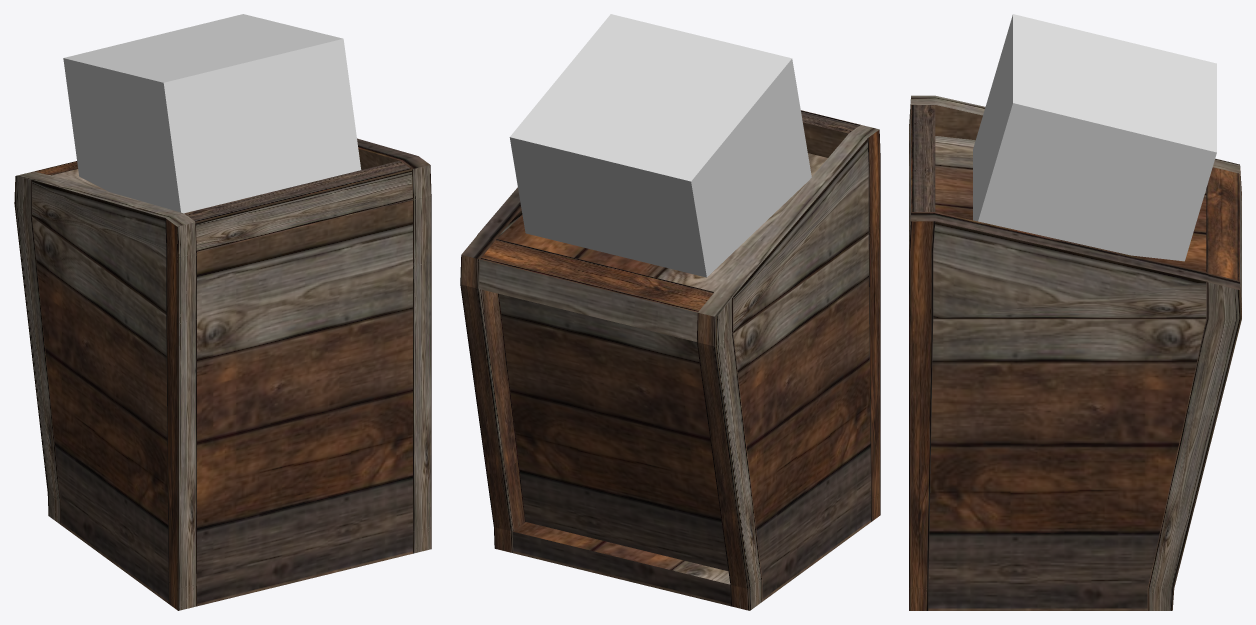
File: stand.glb
3 views of the same model, side by side, from view 1: azimuth 30°, elevation 25°; view 2: azimuth 150°, elevation 25°; view 3: azimuth 270°, elevation 25° (orthographic).
Visible parts, largest first — view 1: stand, placement; view 2: stand, placement; view 3: stand, placement.
Part boxes in pixels (x1,y1,x2,y2): stand: [14, 138, 431, 610]; placement: [63, 14, 361, 213]; stand: [460, 110, 880, 610]; placement: [509, 14, 811, 277]; stand: [909, 95, 1241, 610]; placement: [973, 14, 1216, 261].
Bounding box in the file's own units: 1.65 × 3 × 1.85.
1 material, 1 textured.
